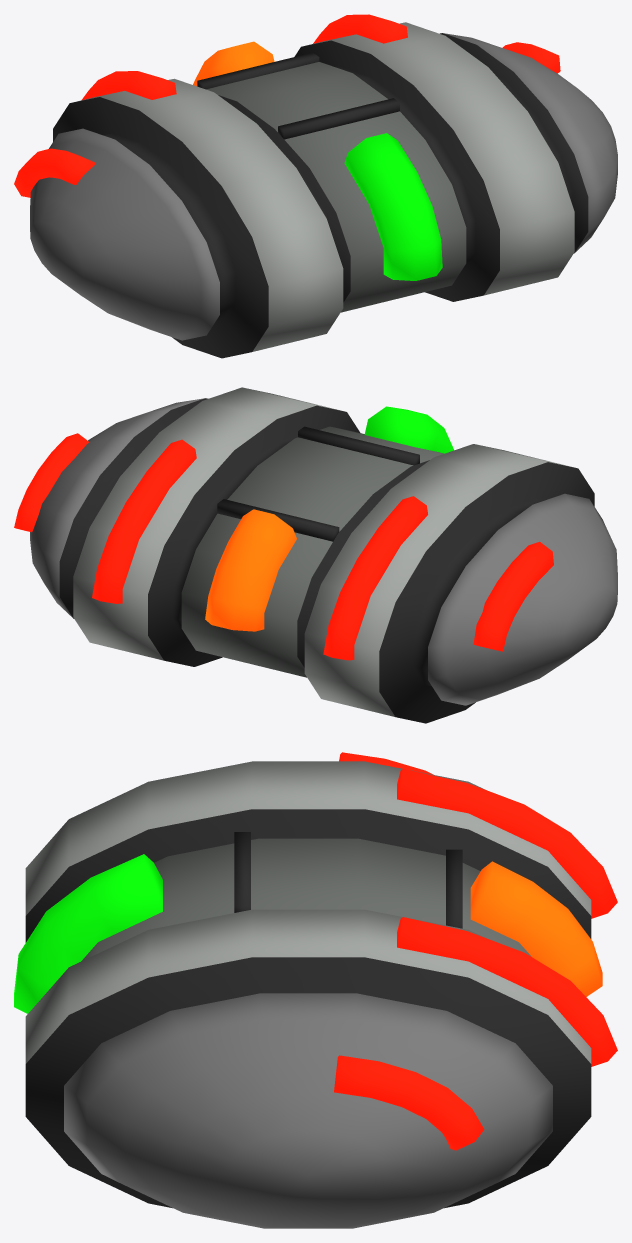
The model's file is tyrian10-165.glb.
3 views of the same model, one above another, from view 1: azimuth 30°, elevation 25°; view 2: azimuth 150°, elevation 25°; view 3: azimuth 270°, elevation 25° (orthographic). The views are drawn at different scales.
Visible parts, largest first — view 1: tyrian10-165, tyrian10-165_lights; view 2: tyrian10-165, tyrian10-165_lights; view 3: tyrian10-165, tyrian10-165_lights.
Part boxes in pixels (box(x1,y1,x2,y2)): tyrian10-165: box(30, 22, 617, 358); tyrian10-165_lights: box(14, 14, 560, 280); tyrian10-165: box(30, 387, 617, 723); tyrian10-165_lights: box(14, 406, 553, 660); tyrian10-165: box(25, 761, 591, 1228); tyrian10-165_lights: box(14, 752, 617, 1150).
Size of the model in its own units: 1.78 by 0.6678 by 1.29.
